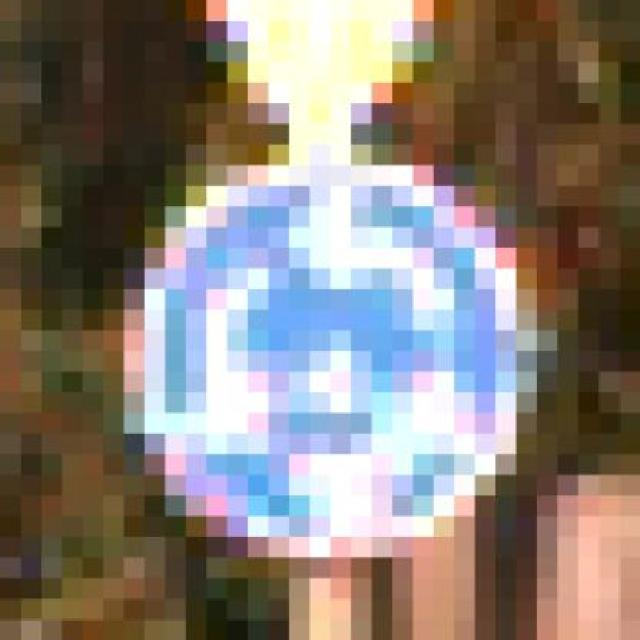Round-About: (61, 124, 578, 578)
